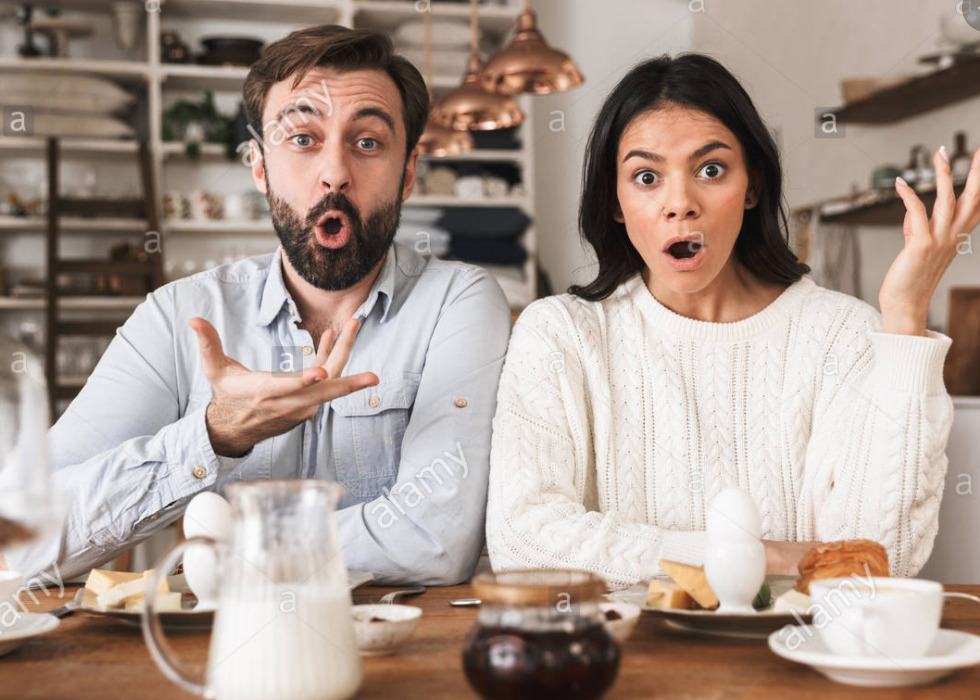Bad: (51, 26, 980, 485)
